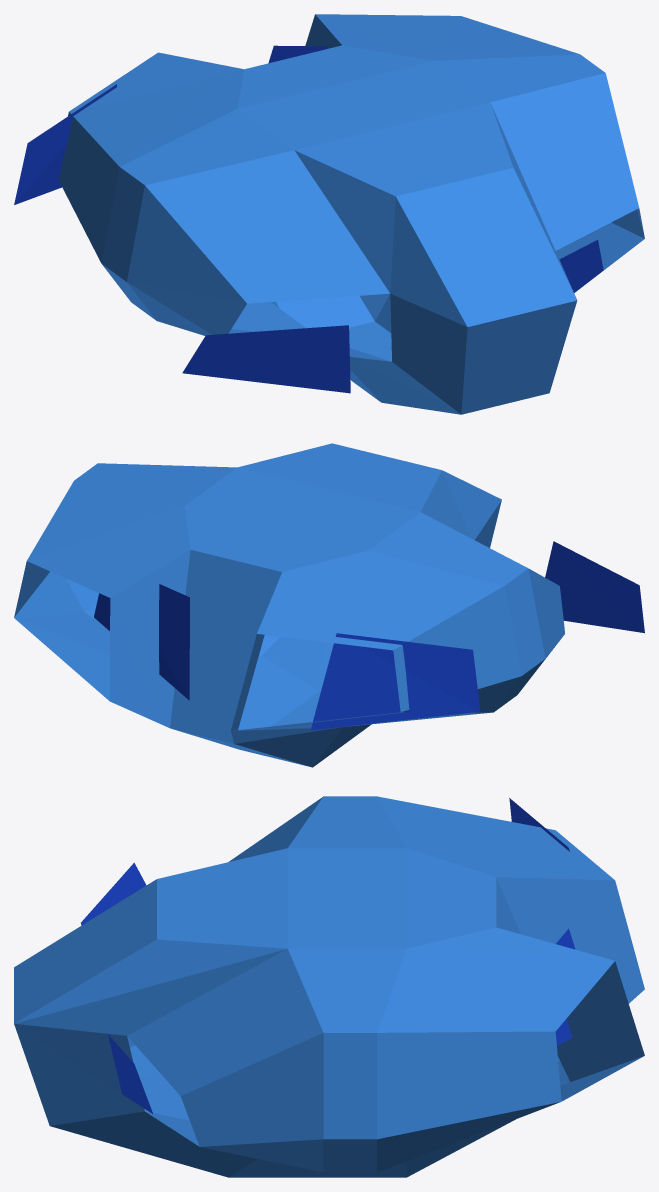
The model's file is Body.FBX.
The picture shows the model from 3 angles, top to bottom: view 1: azimuth 30°, elevation 25°; view 2: azimuth 150°, elevation 25°; view 3: azimuth 270°, elevation 25°; orthographic projection. The views are drawn at different scales.
Parts seen in each view (by area): view 1: VIFS001, VIFS002; view 2: VIFS001, VIFS002; view 3: VIFS001, VIFS002.
Boxes of the visible parts, x1,y1,x2,y2 form: VIFS001: (58,14,644,414); VIFS002: (14,45,603,393); VIFS001: (14,443,564,767); VIFS002: (94,541,644,730); VIFS001: (14,796,644,1177); VIFS002: (81,798,575,1113).
Bounding box in the file's own units: 1.9 × 0.8571 × 1.89.
